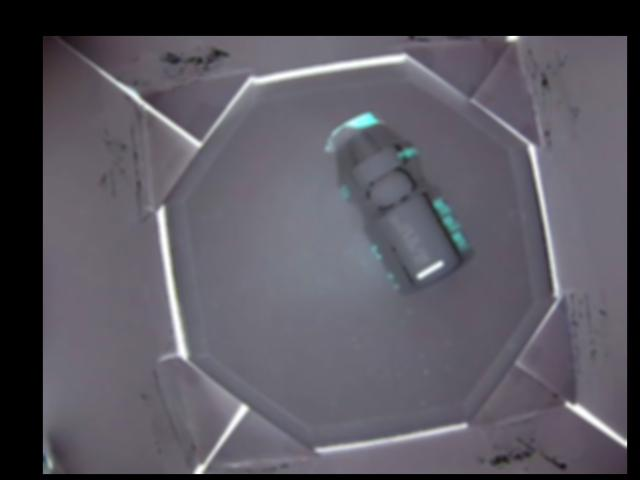Bottle: (324, 112, 472, 296)
